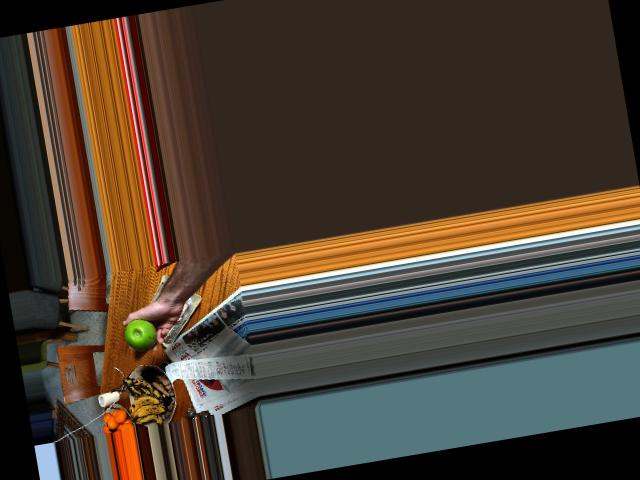apple: (120, 314, 159, 350)
